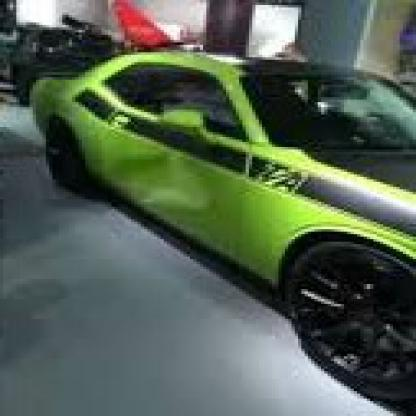dent: (108, 150, 196, 204)
